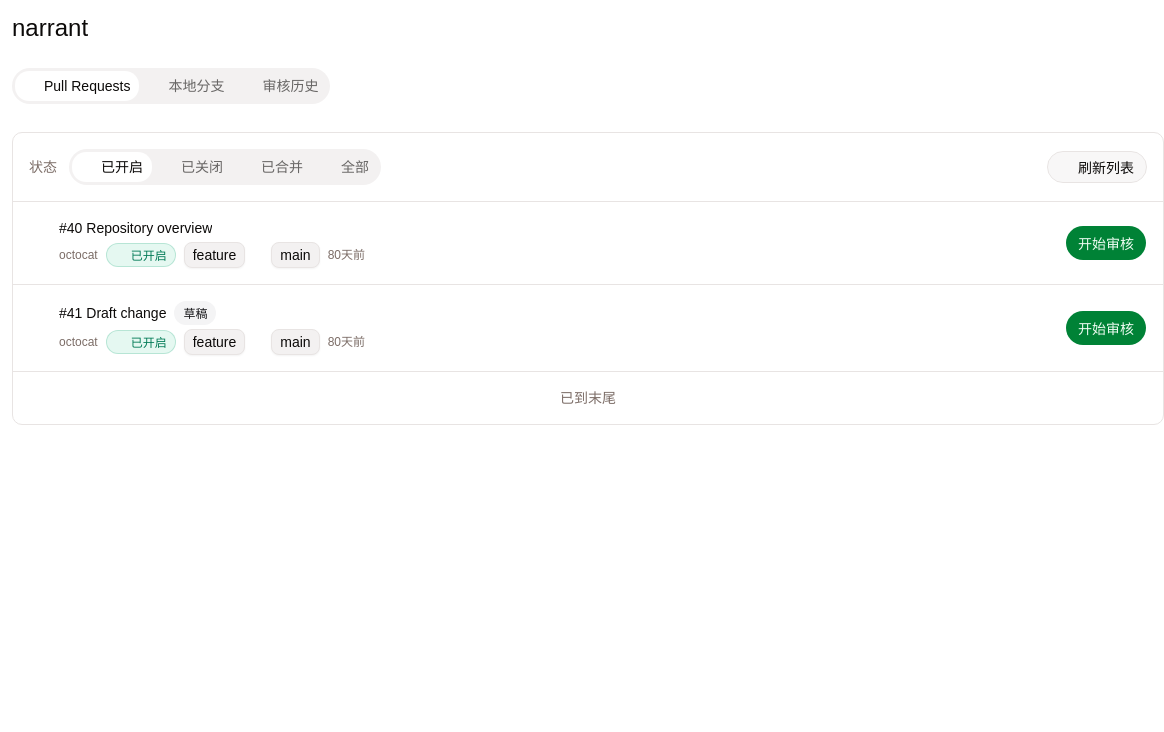
Test: RepositoryOverview › online 条目统一按四种状态筛选，Draft 仅在未关闭时归入 Open
Expected: the number of list items is 2, [13,202,1163,285]; [13,285,1163,371]
Expected: the text "#41 Draft change" is shown, [59,303,166,323]
Click the tab "已关闭" at (192, 167), box [152,152,232,182]
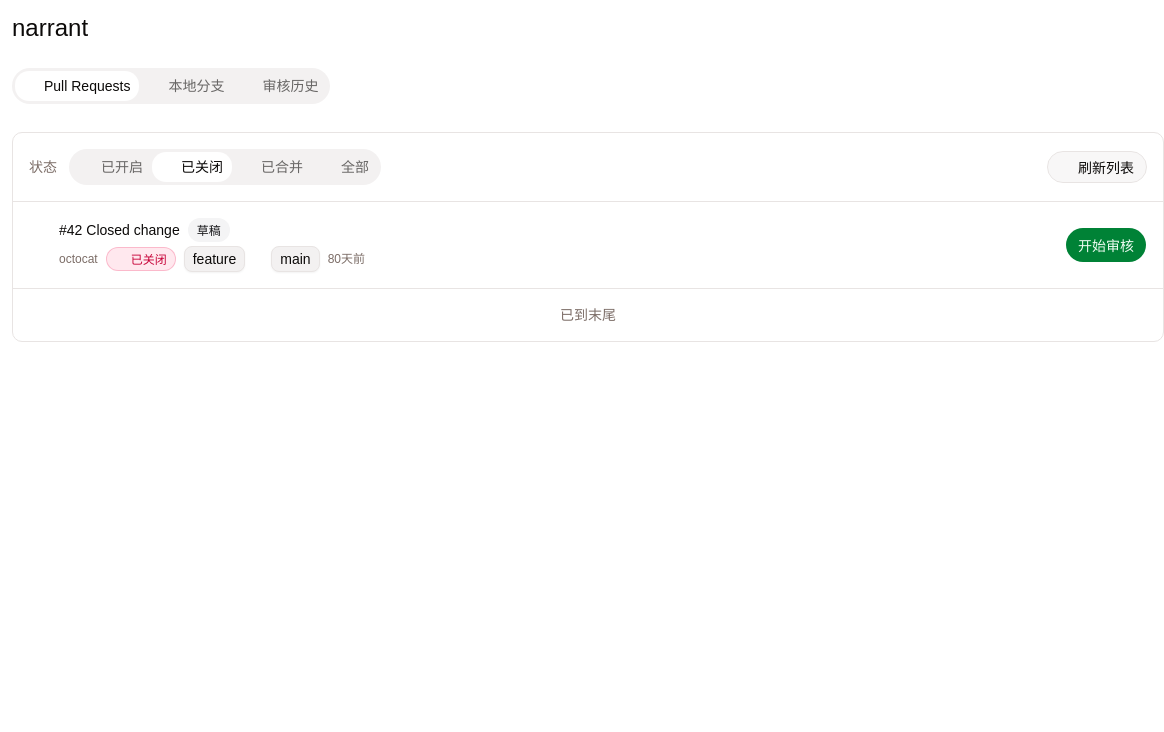
Now the number of list items is 1, box [13,202,1163,288]
Now the text "#42 Closed change" is shown, box [59,220,180,240]
Click the tab "已合并" at (272, 167), box [232,152,312,182]
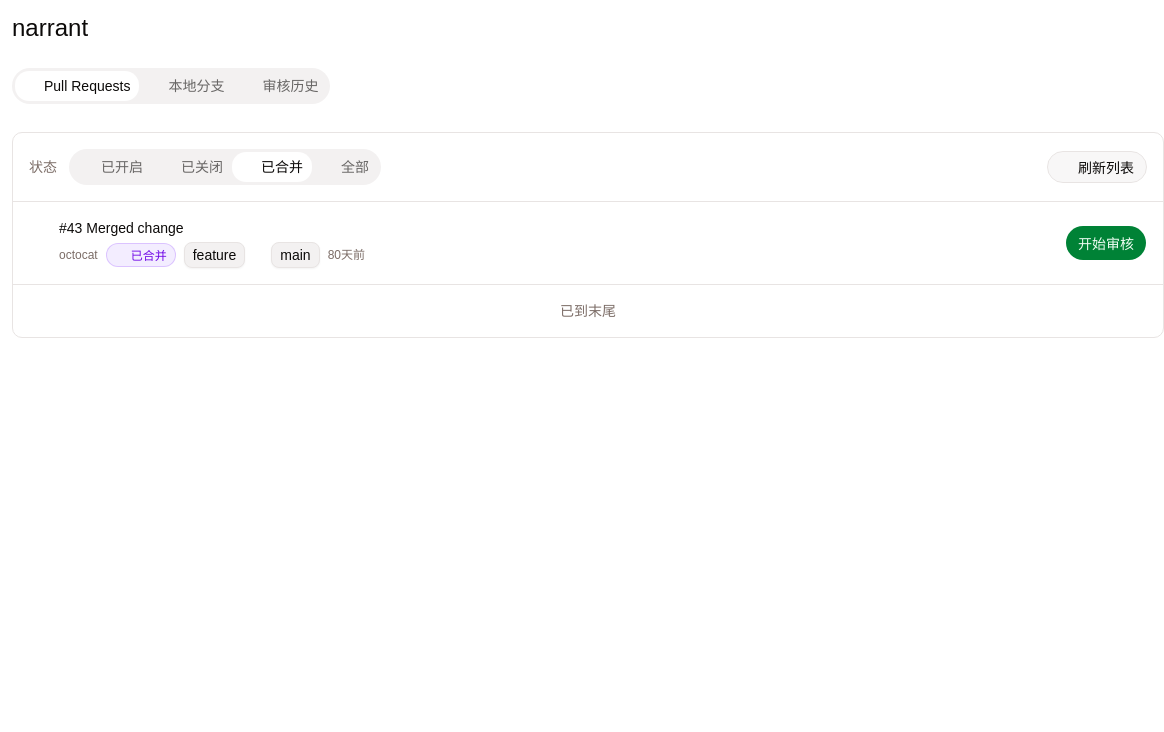
Now the number of list items is 1, box [59,220,1147,268]
Now the text "#43 Merged change" is shown, box [59,218,184,238]
Click the tab "全部" at (345, 167), box [312,152,378,182]
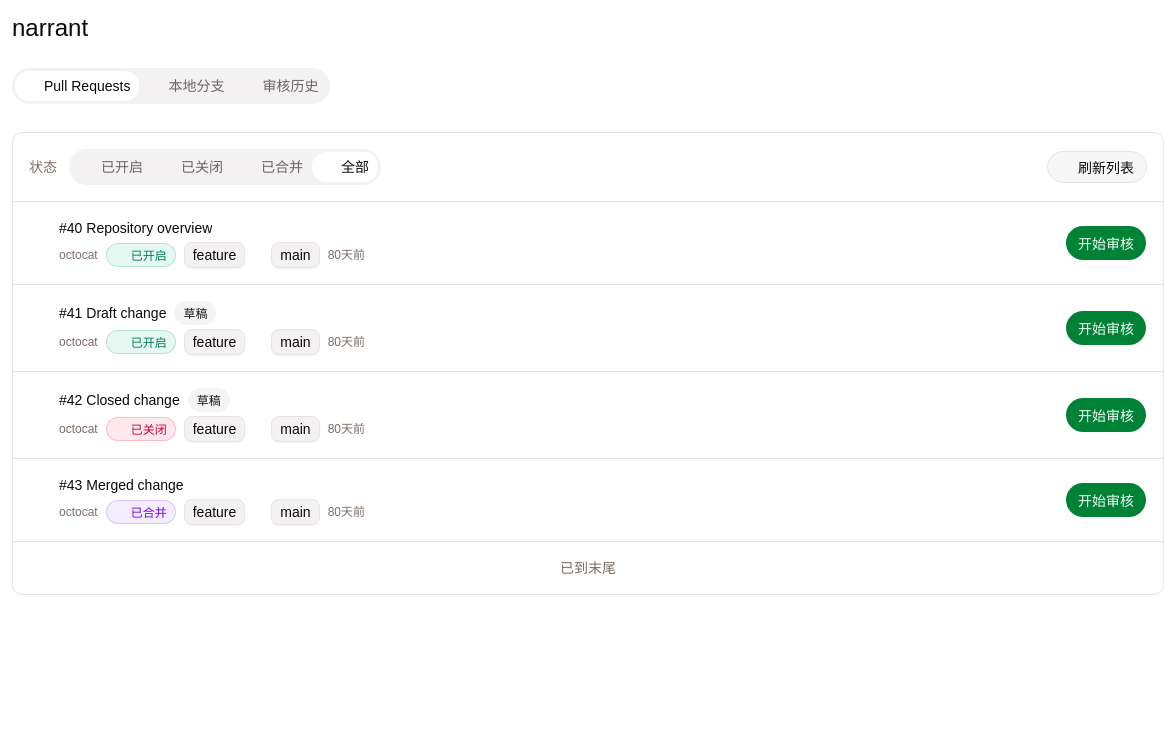
Now the number of list items is 4, box [13,202,1163,285]; [13,285,1163,372]; [13,372,1163,459]; [59,477,1147,525]
Click the tab "已开启" at (112, 167), box [72,152,152,182]
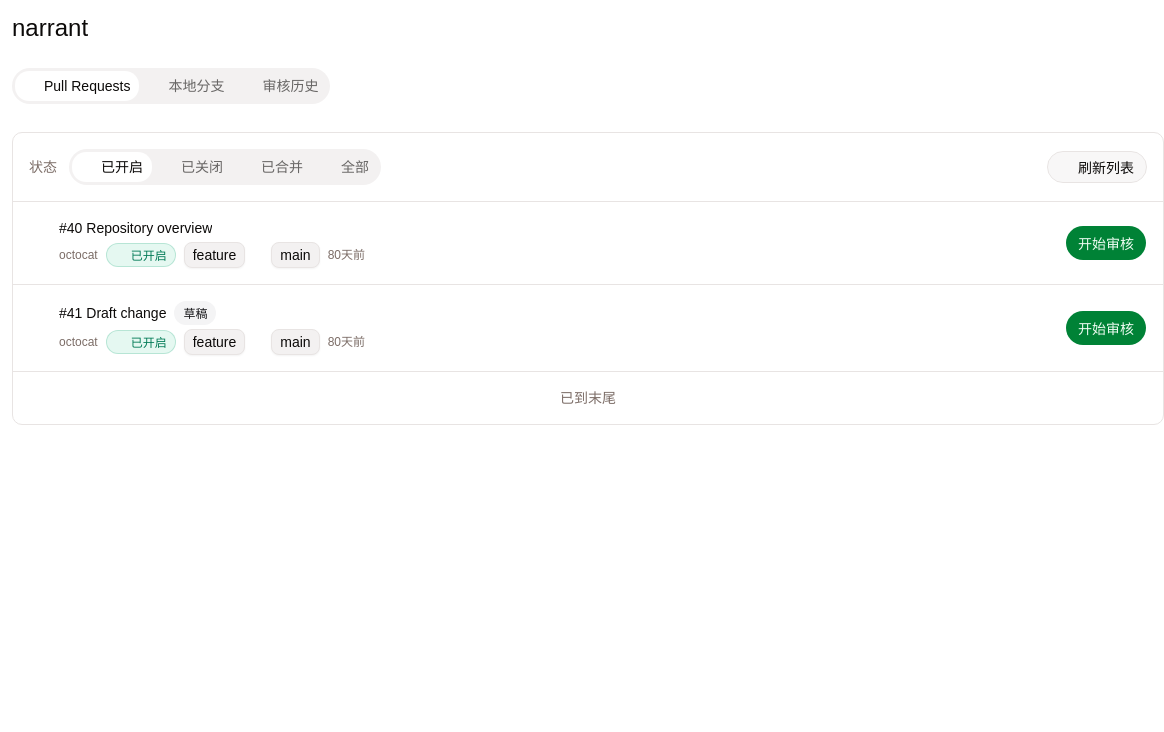
Now the number of list items is 2, box [13,202,1163,285]; [13,285,1163,371]
